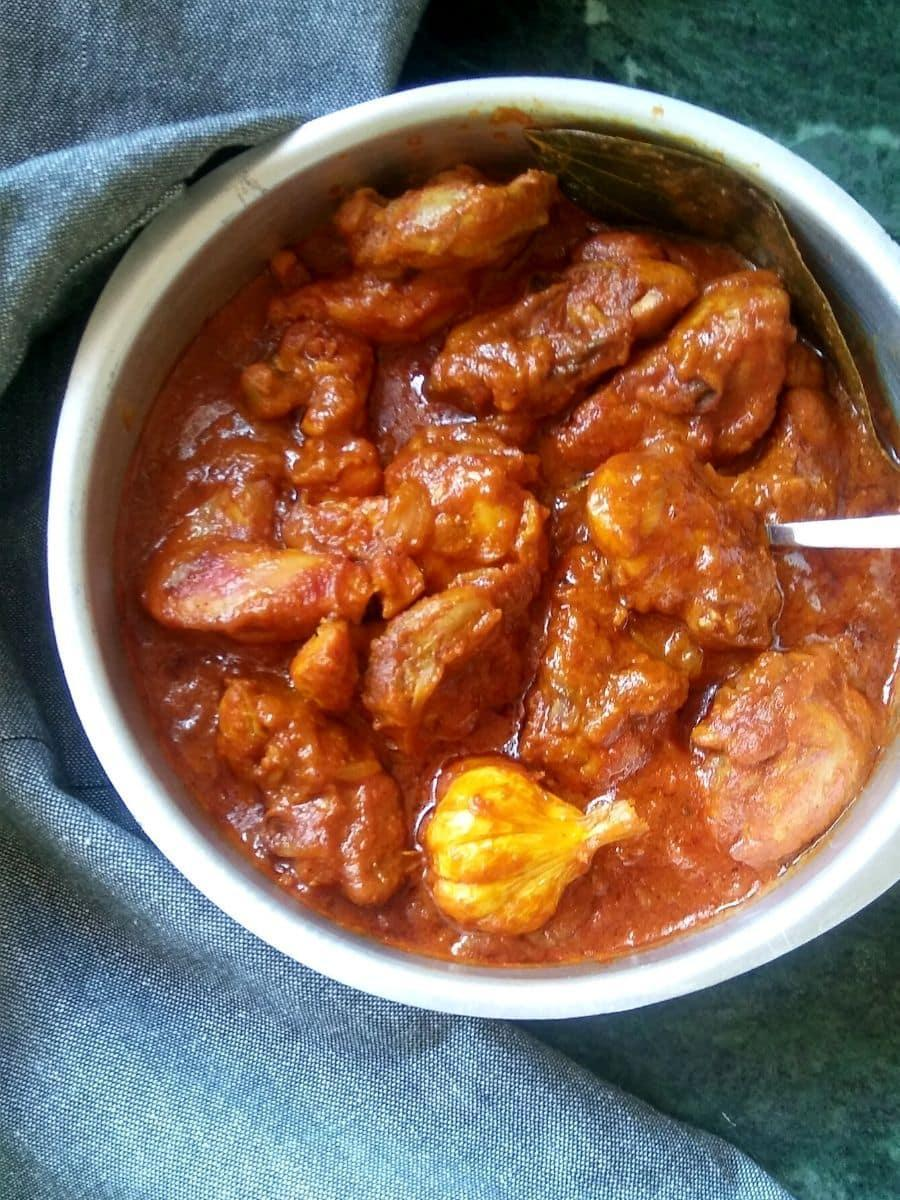chicken: (167, 165, 897, 953)
